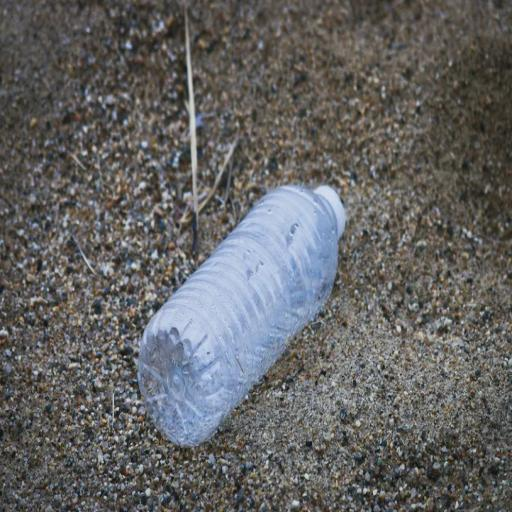bottles: (139, 187, 345, 445)
